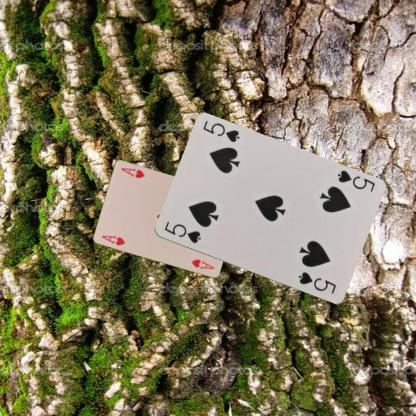5s: (161, 219, 202, 245), (334, 168, 376, 193)
Ah: (99, 232, 126, 247)
